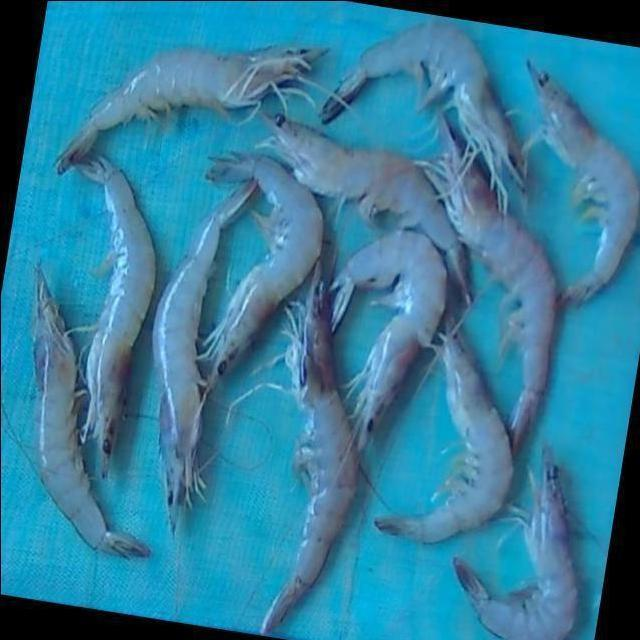shrimp: (430, 137, 556, 452), (319, 19, 526, 209), (260, 245, 358, 634), (150, 178, 256, 532), (30, 265, 148, 557), (267, 115, 466, 288), (54, 45, 322, 173), (374, 327, 512, 543), (198, 155, 322, 395), (528, 61, 640, 300), (74, 154, 154, 477), (334, 229, 446, 450), (453, 452, 577, 640)
